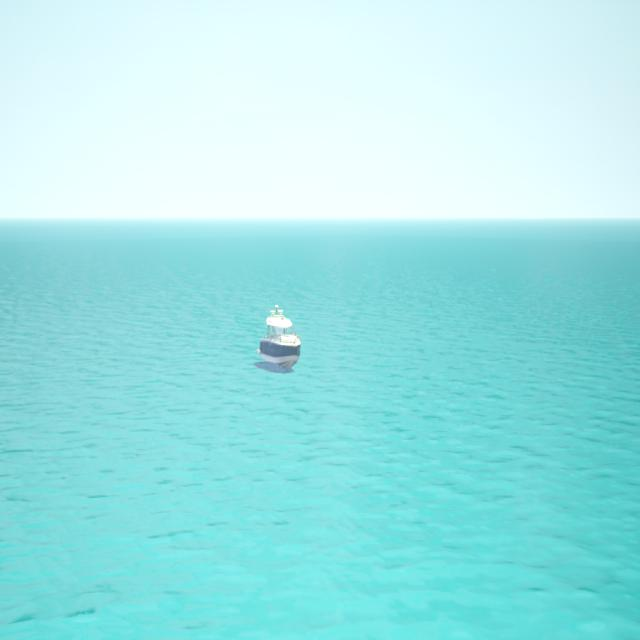ship: (256, 305, 300, 373)
